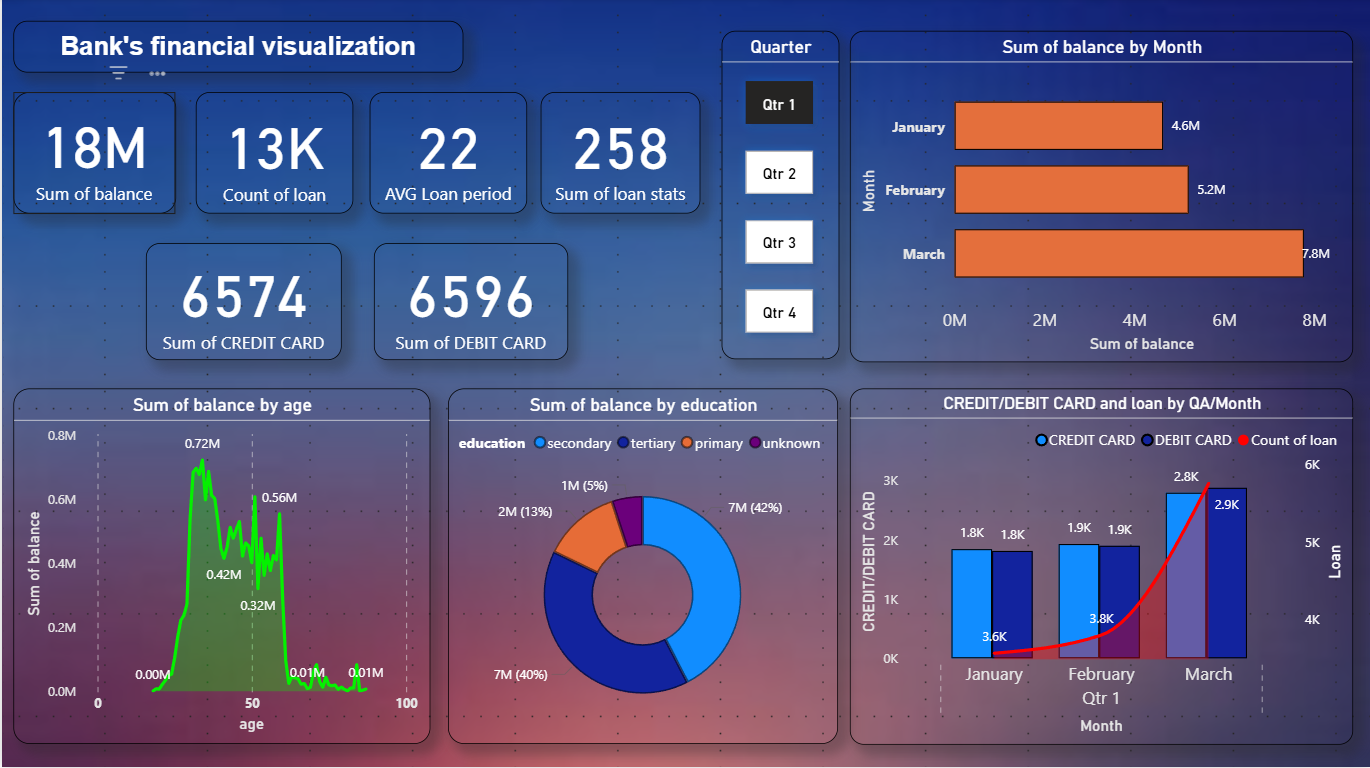

Layout of this report page (visuals, bound fields, positions):
{"tool":"powerbi","page":{"name":"Page 1","canvas":[1280,720],"ordinal":0},"visuals":[{"type":"textbox","box":[10.3,20.7,420.9,48.7],"z":0},{"type":"barChart","fields":{"Category":["bank-full.duration.Variation.Date Hierarchy.Quarter","bank-full.duration.Variation.Date Hierarchy.Month"],"Y":["Sum(bank-full.balance)"]},"box":[793.6,30.1,471.2,310],"z":1000},{"type":"lineClusteredColumnComboChart","title":"CREDIT/DEBIT CARD and loan by QA/Month","fields":{"Category":["bank-full.duration.Variation.Date Hierarchy.Quarter","bank-full.duration.Variation.Date Hierarchy.Month"],"Y":["Sum(bank-full.CREDIT CARD)","Sum(bank-full.DEBIT CARD)"],"Y2":["CountNonNull(bank-full.loan)"]},"box":[793.6,364.9,471.2,333],"z":2000},{"type":"card","fields":{"Values":["Sum(bank-full.balance)"]},"box":[10.3,88.6,152.1,113.7],"z":3000},{"type":"card","fields":{"Values":["CountNonNull(bank-full.loan)"]},"box":[181.7,88.6,147.7,113.7],"z":4000},{"type":"card","fields":{"Values":["Sum(bank-full.loan stats)"]},"box":[504.4,88.3,149.5,113.5],"z":5000},{"type":"card","fields":{"Values":["bank-full.Max of Loan period max per Loan period"]},"box":[344.1,88.3,147.7,113.5],"z":6000},{"type":"areaChart","fields":{"Category":["bank-full.age Hierarchy.age"],"Y":["Sum(bank-full.balance)"]},"box":[10.3,364.8,389.9,332.3],"z":7000},{"type":"donutChart","fields":{"Category":["bank-full.education"],"Y":["Sum(bank-full.balance)"]},"box":[418,364.8,364.8,332.3],"z":8000},{"type":"card","fields":{"Values":["Sum(bank-full.CREDIT CARD)"]},"box":[134.4,228.9,183.1,109.3],"z":9000},{"type":"card","fields":{"Values":["Sum(bank-full.DEBIT CARD)"]},"box":[348.5,228.9,181.7,109.3],"z":10000},{"type":"advancedSlicerVisual","fields":{"Values":["bank-full.duration.Variation.Date Hierarchy.Quarter"]},"box":[672.7,30.4,109.9,307.6],"z":11000}]}

Visuals, with their boxes in screenshot pixels (x1, y1, x2, y2), scaled from the page's 1280x720 canvas onto the 1370x768 screenshot:
textbox: [11,22,462,74]
barChart - bank-full.duration.Variation.Date Hierarchy.Quarter x bank-full.duration.Variation.Date Hierarchy.Month: [849,32,1354,363]
"CREDIT/DEBIT CARD and loan by QA/Month" lineClusteredColumnComboChart: [849,389,1354,744]
card - Sum(bank-full.balance): [11,95,174,216]
card - CountNonNull(bank-full.loan): [194,95,353,216]
card - Sum(bank-full.loan stats): [540,94,700,215]
card - bank-full.Max of Loan period max per Loan period: [368,94,526,215]
areaChart - bank-full.age Hierarchy.age x Sum(bank-full.balance): [11,389,428,744]
donutChart - bank-full.education x Sum(bank-full.balance): [447,389,838,744]
card - Sum(bank-full.CREDIT CARD): [144,244,340,361]
card - Sum(bank-full.DEBIT CARD): [373,244,567,361]
advancedSlicerVisual - bank-full.duration.Variation.Date Hierarchy.Quarter: [720,32,838,361]
